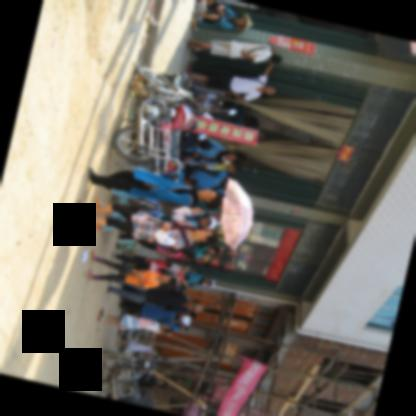handbag: (127, 198, 175, 215), (114, 240, 142, 251), (117, 262, 138, 276), (246, 46, 267, 54), (234, 71, 251, 80)
